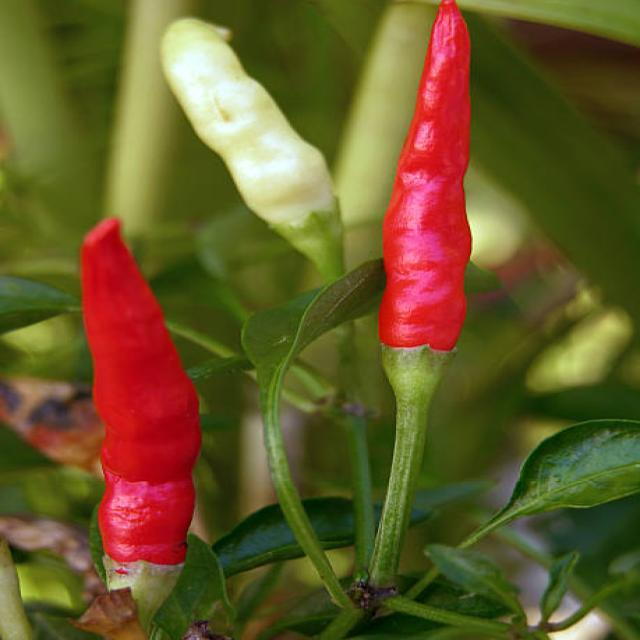Ripe: (77, 216, 202, 594), (381, 0, 470, 348)
